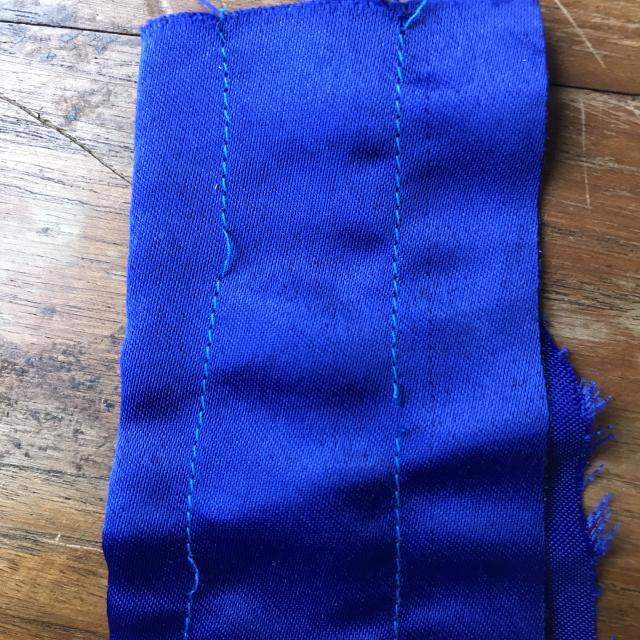broken: (360, 357, 434, 451)
good: (183, 366, 221, 455)
skip: (197, 204, 249, 290), (164, 535, 219, 611)
